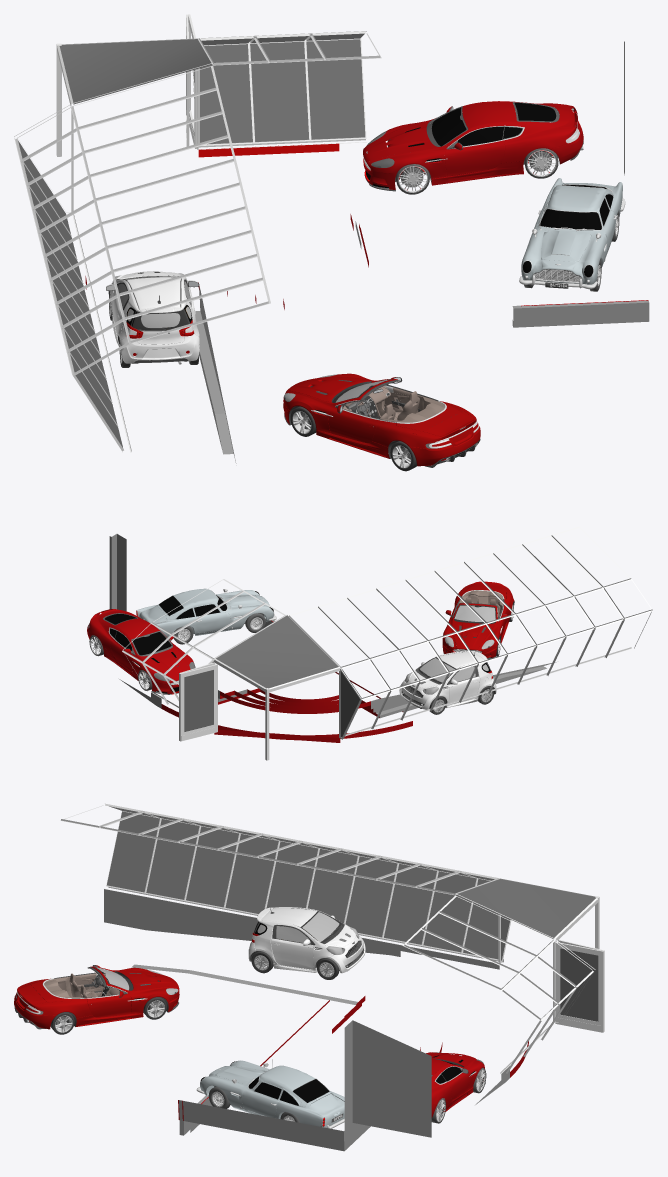
The model's file is mapObject1.glb.
3 renders of one model, top to bottom at view 1: azimuth 30°, elevation 25°; view 2: azimuth 150°, elevation 25°; view 3: azimuth 270°, elevation 25°, orthographic. The views are drawn at different scales.
Parts seen in each view (by area): view 1: Aston+Martin; view 2: Aston+Martin; view 3: Aston+Martin.
Part boxes in pixels (x1,y1,x2,y2): Aston+Martin: [14, 14, 649, 471]; Aston+Martin: [87, 526, 652, 760]; Aston+Martin: [14, 803, 604, 1151].
Size of the model in its own units: 0.1013 by 0.0236 by 0.0941.
97 materials, 5 textured.
